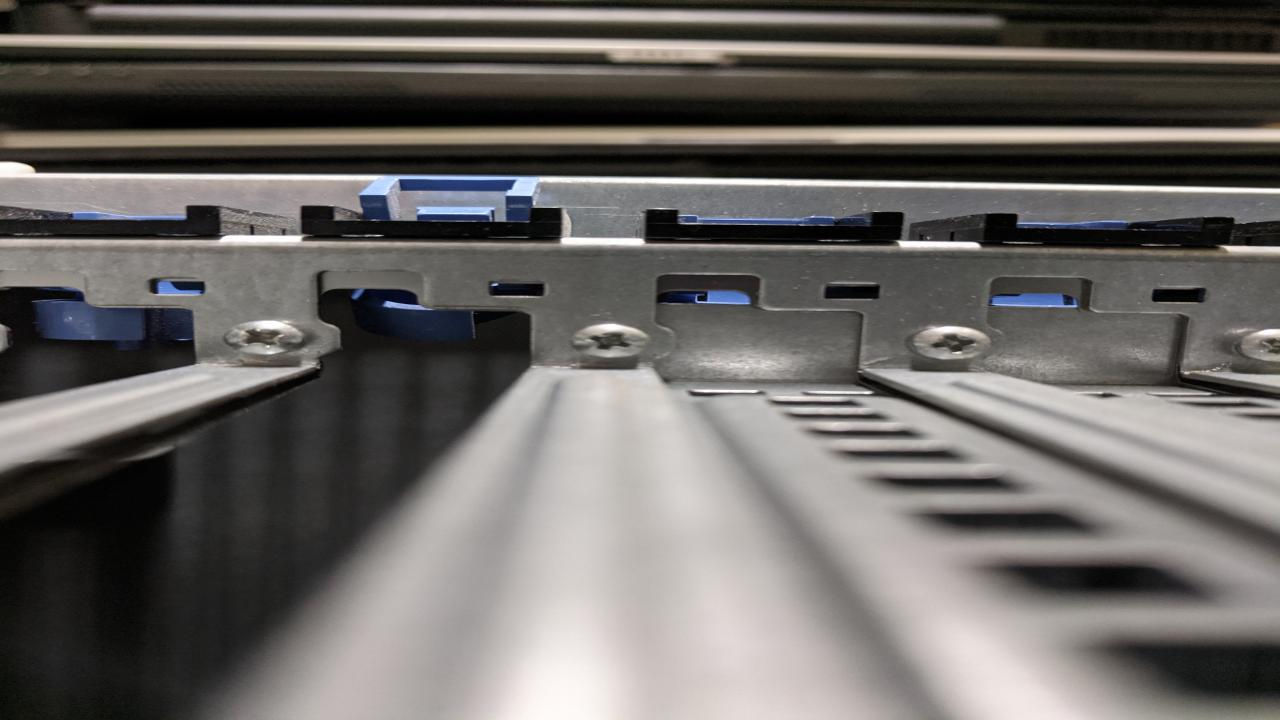CRS: (216, 315, 308, 356), (909, 321, 987, 364), (568, 320, 647, 359), (1242, 323, 1280, 367)
